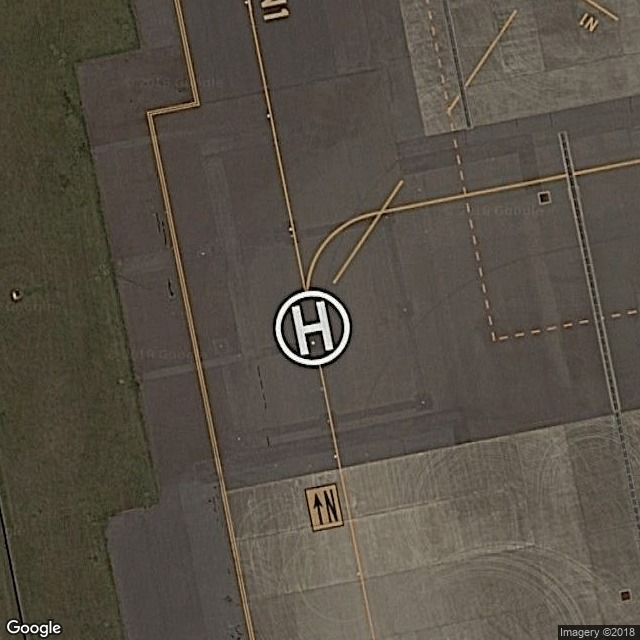heliport: (287, 301, 337, 356)
